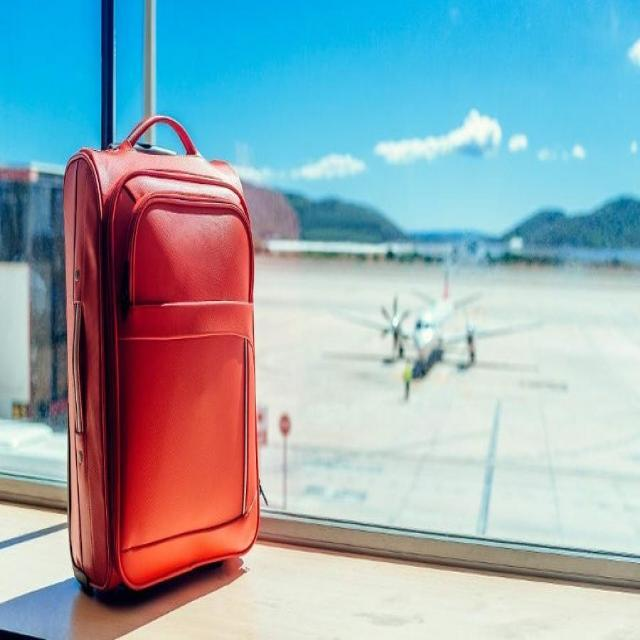Backpacks: (60, 112, 262, 597)
